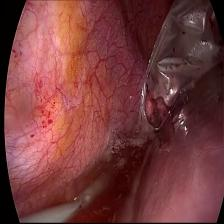Specimen Bag: (127, 0, 224, 148)
